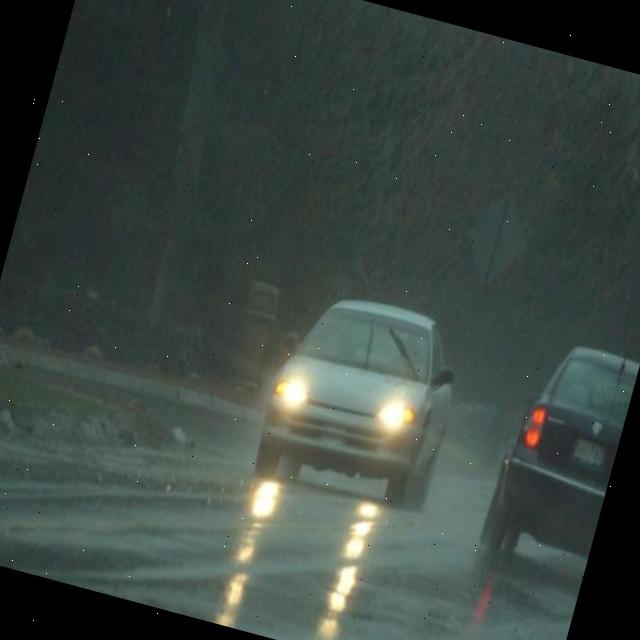car: (247, 280, 473, 518), (478, 336, 640, 582)
